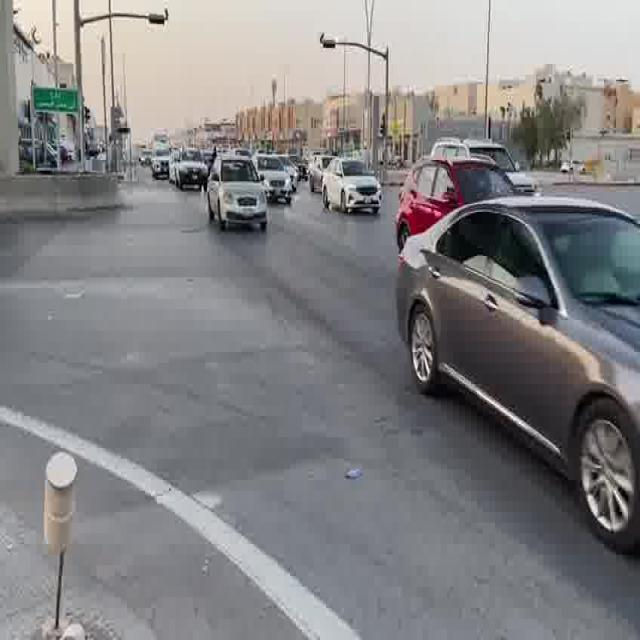bus: (396, 161, 486, 252), (205, 153, 269, 233), (326, 160, 385, 216), (257, 157, 298, 205), (171, 150, 211, 191), (430, 141, 471, 166)
car: (179, 209, 640, 640), (396, 161, 486, 252), (205, 153, 269, 233), (326, 160, 385, 216), (257, 157, 298, 205), (171, 150, 211, 191), (430, 141, 471, 166)
lanes: (179, 209, 640, 640), (226, 209, 639, 634)
lanes2: (226, 209, 639, 634), (260, 205, 640, 474)
lanes3: (260, 205, 640, 474), (286, 201, 640, 404)
lanes4: (286, 201, 640, 404), (327, 192, 640, 313)
lanes5: (327, 192, 640, 313)
motorbike: (152, 130, 172, 181)
truck: (152, 130, 172, 181)
